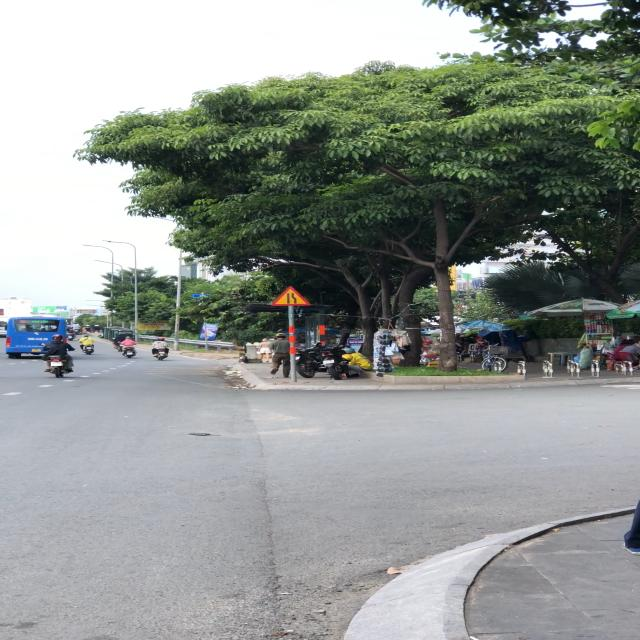Bien bao duong bi thu hep: (270, 285, 311, 307)
